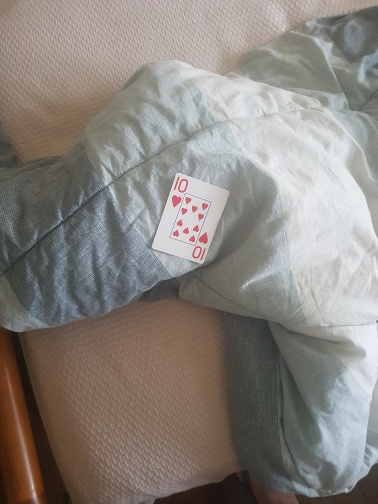ten: (152, 173, 230, 265)
